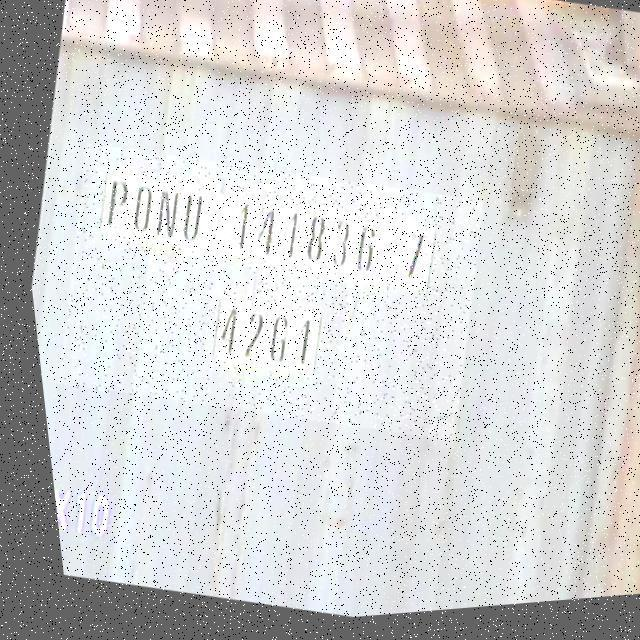container_number_h: (28, 120, 498, 475)
